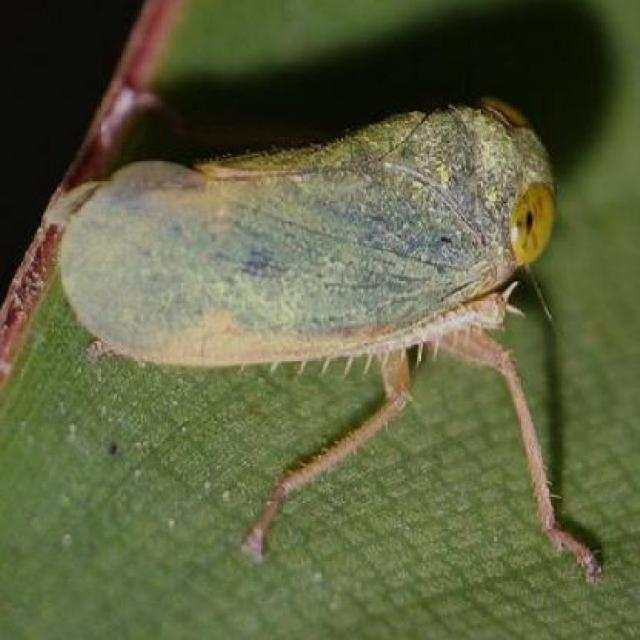green-leafhopper: (52, 102, 562, 366)
